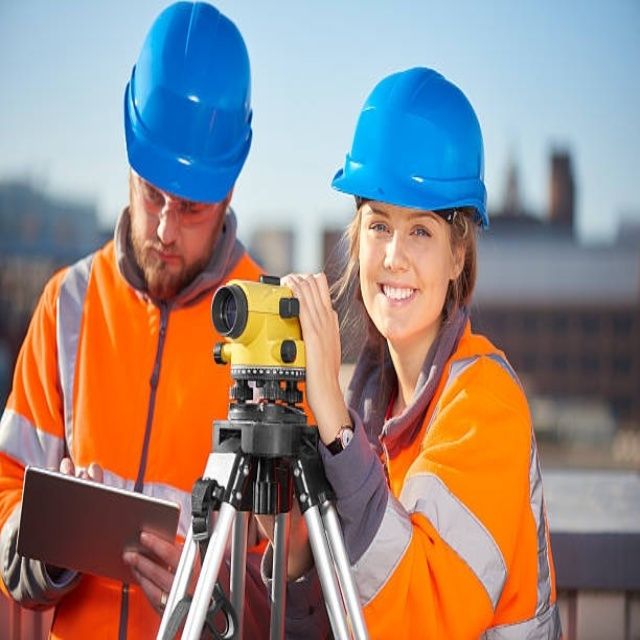Gafas: (133, 170, 226, 225)
Sin_gafas: (364, 198, 440, 251)
Sin_guantes: (281, 264, 343, 378), (121, 526, 188, 620)
Sin_mascara: (371, 268, 425, 326), (141, 232, 186, 284)
